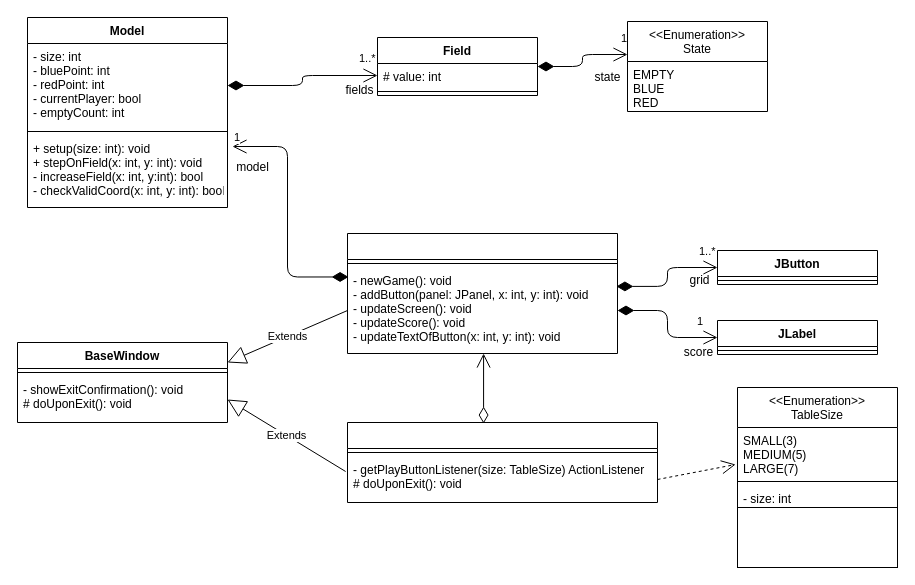
This 915x585 diagram has some shape labels left out. The box of each missing label's shape, as (x1, y1, x2, y2) in pixels:
+ getSize(): int + getWidth(): int + getHeight(): int: (736, 506, 898, 568)
GameWindow: (346, 232, 618, 354)
MainWindow: (346, 422, 658, 502)
